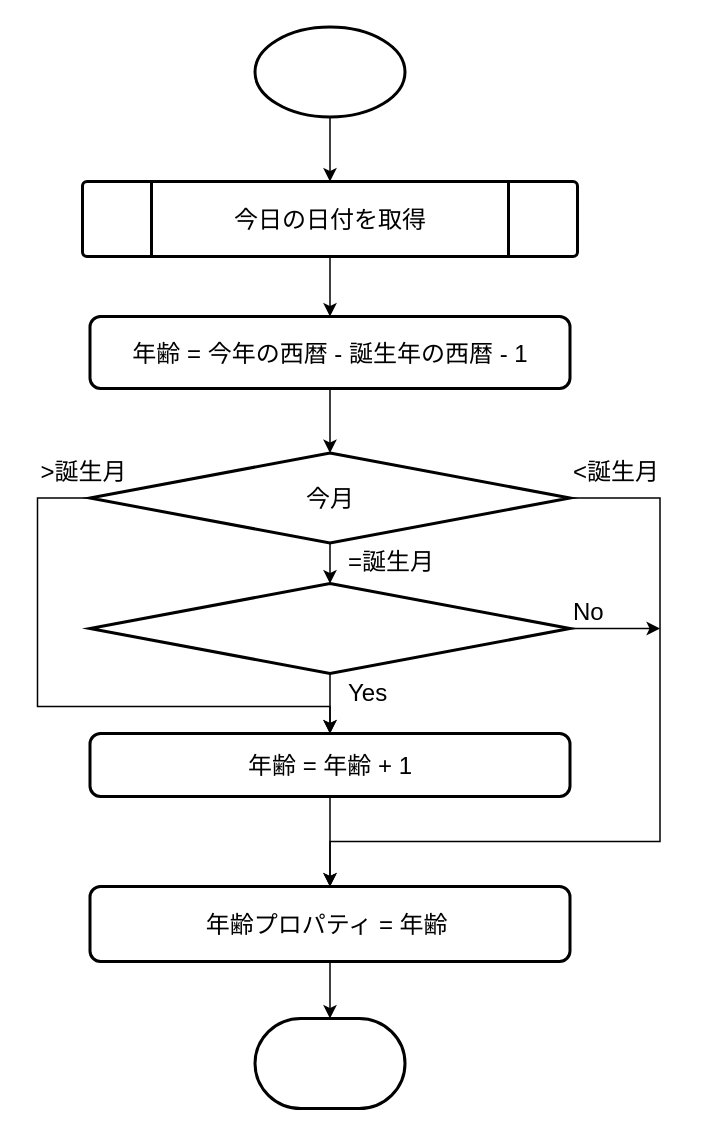
The diagram is 701 pixels wide and 1136 high, and some of its shapes have lost their labels. The shapes that lost their labels are listed below. From the top down, each one's box as (x1, y1, x2, y2) in pixels, then its label:
(253, 25, 406, 118): start
(88, 581, 571, 674): 今日付 ≧ 誕生日付
(253, 1016, 406, 1109): end
